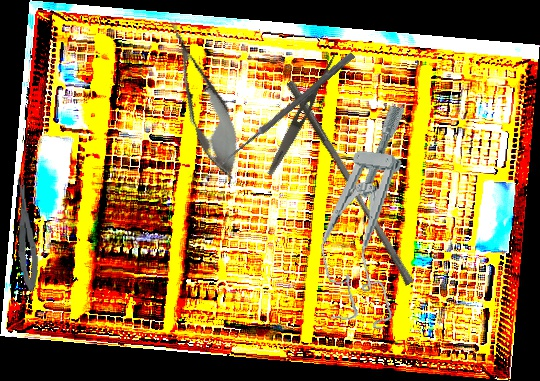Dressing Forceps: (264, 50, 340, 178)
Micro Scissor: (152, 12, 254, 186), (13, 178, 41, 292)
Pusher: (277, 79, 422, 287)
Speculum: (309, 99, 423, 331)
Surgical Spoon: (216, 51, 356, 169)
